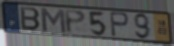5: (88, 10, 108, 37)
9: (133, 13, 152, 41)
B: (19, 5, 42, 32)
M: (38, 7, 68, 35)
P: (63, 9, 88, 35), (108, 11, 130, 39)
